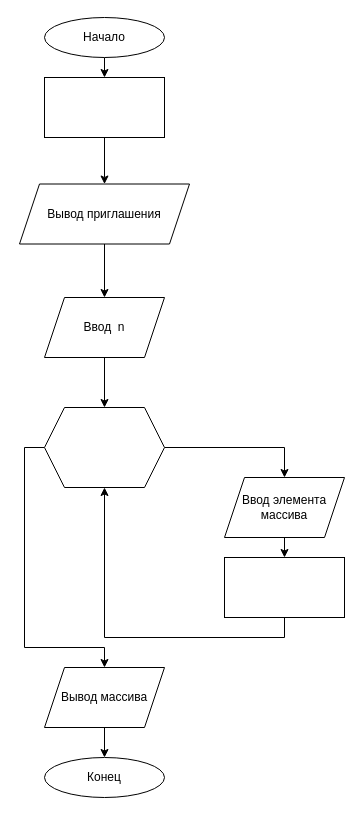
Some shapes in this 362 by 815 pixel diagram are drawn without their labels. Each missing label, with the box of its shape:
a = []: (44, 76, 164, 138)
i от 1 до n: (44, 406, 164, 488)
Добавление элемента в массив: (224, 556, 344, 618)
